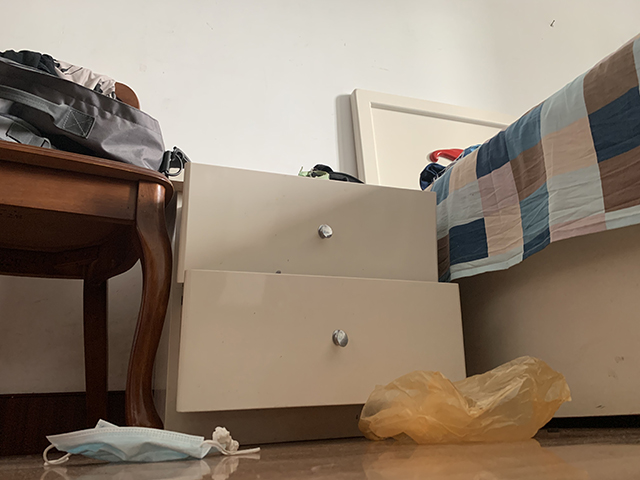bed: (349, 30, 640, 420)
cabinet: (152, 159, 467, 449)
stool: (1, 49, 180, 429)
